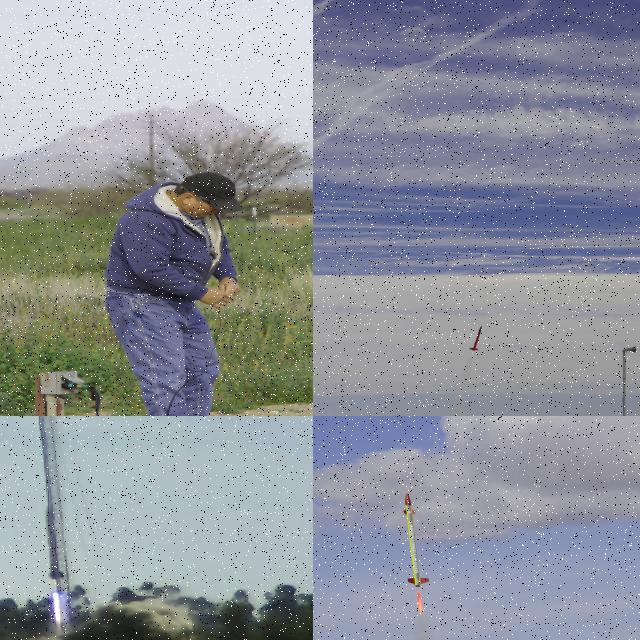Rocket: (403, 492, 430, 588), (46, 507, 64, 579), (469, 325, 482, 351)
